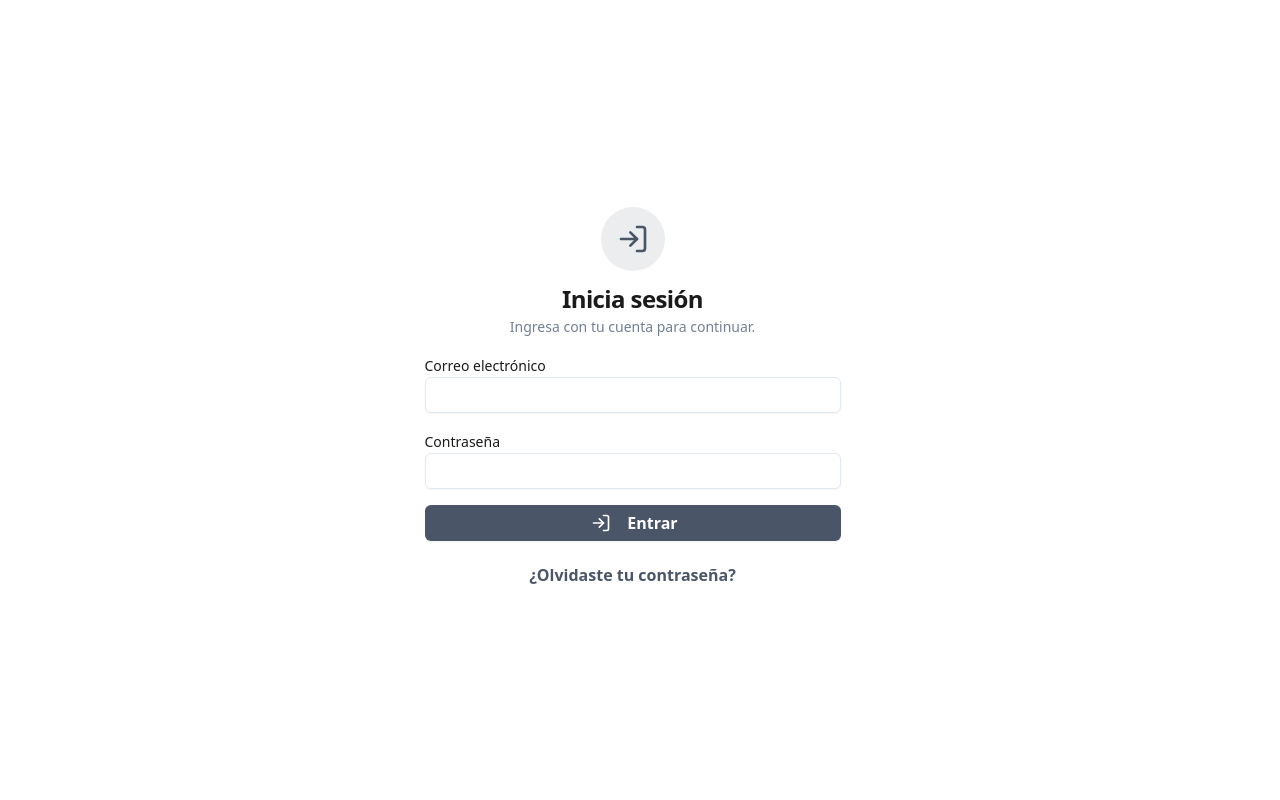
Scenario: login page password recovery entry › reaches the shared recovery flow and requests the link from there
The width and height of the screenshot is (1280, 800).
Click the button "¿Olvidaste tu contraseña?".
click(632, 575)  # box [517,557,748,593]
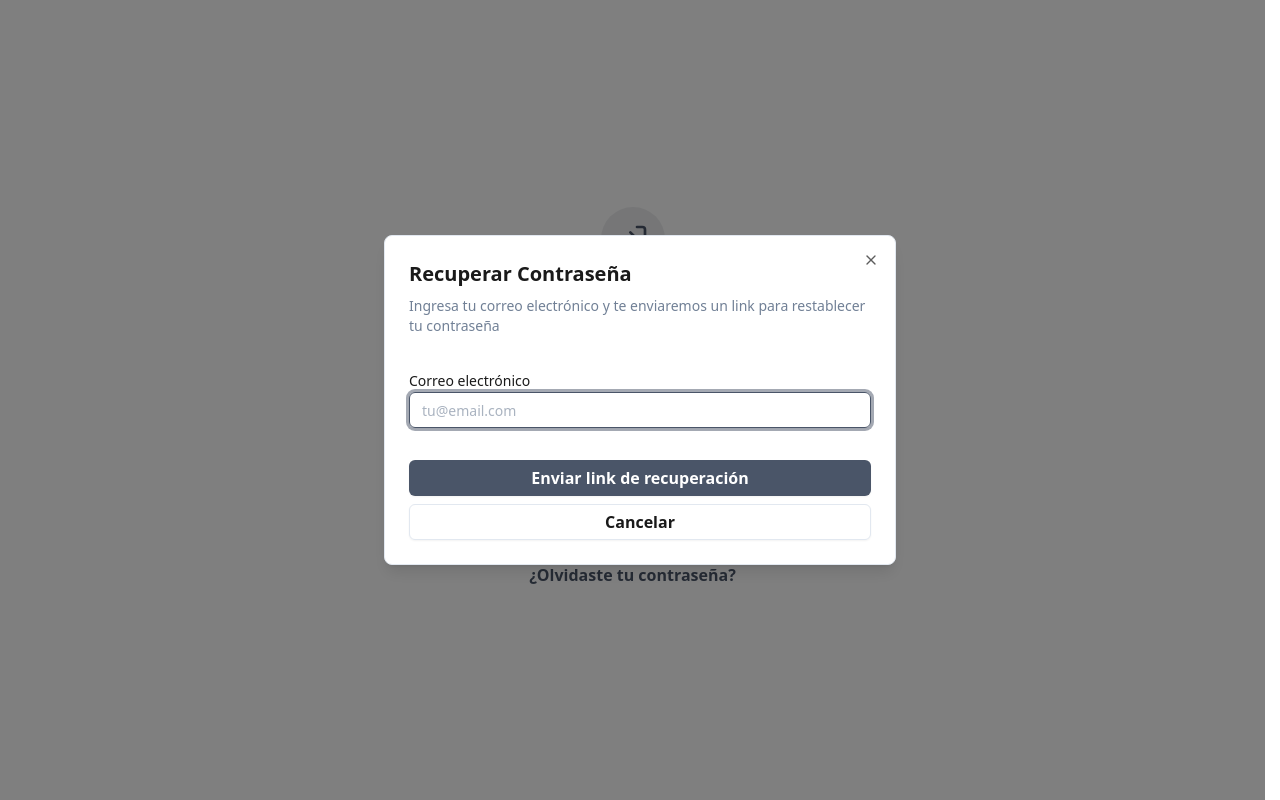
Expected: the heading "Recuperar Contraseña" is shown, [409,260,632,287]
Type "duena@tienda.test" into the field labelled "Correo electrónico".
click(640, 410); type("duena@tienda.test")  # box [409,392,871,428]
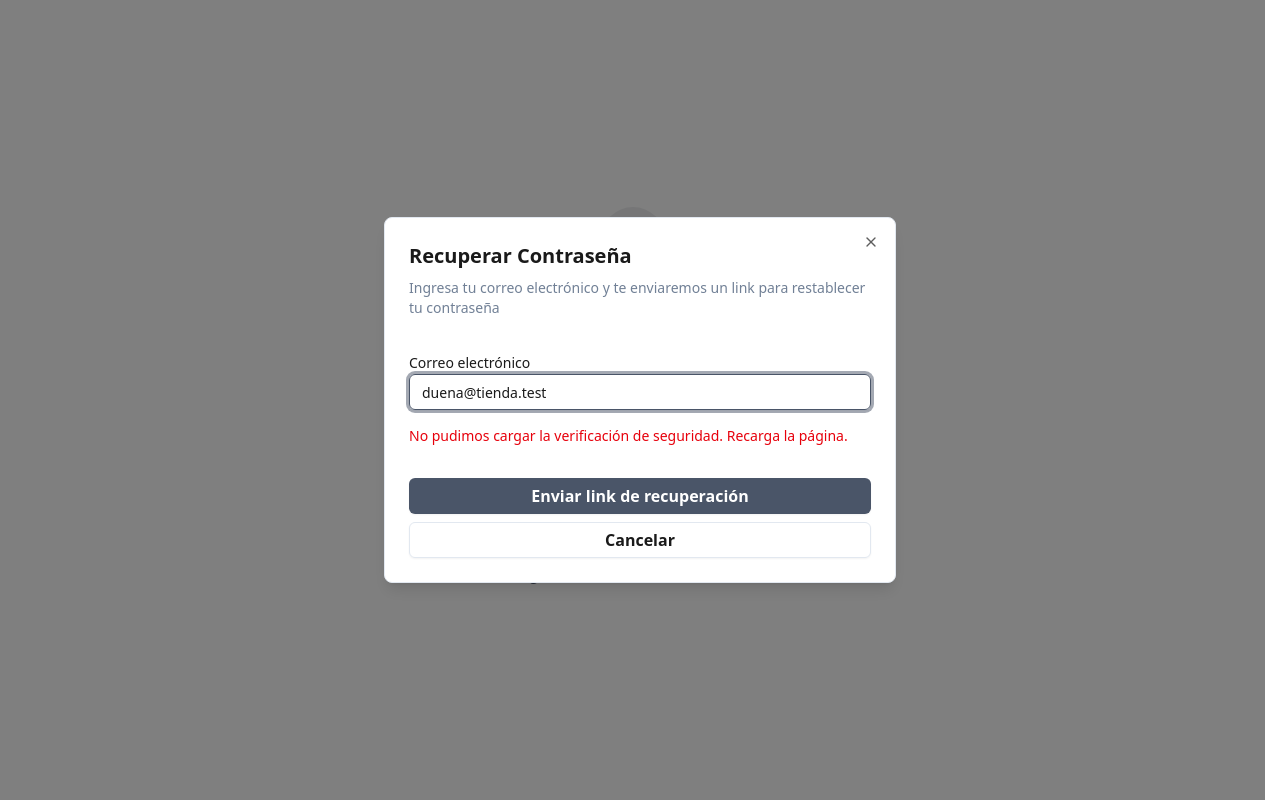
Click the button "Enviar link de recuperación".
click(640, 496)  # box [409,478,871,514]
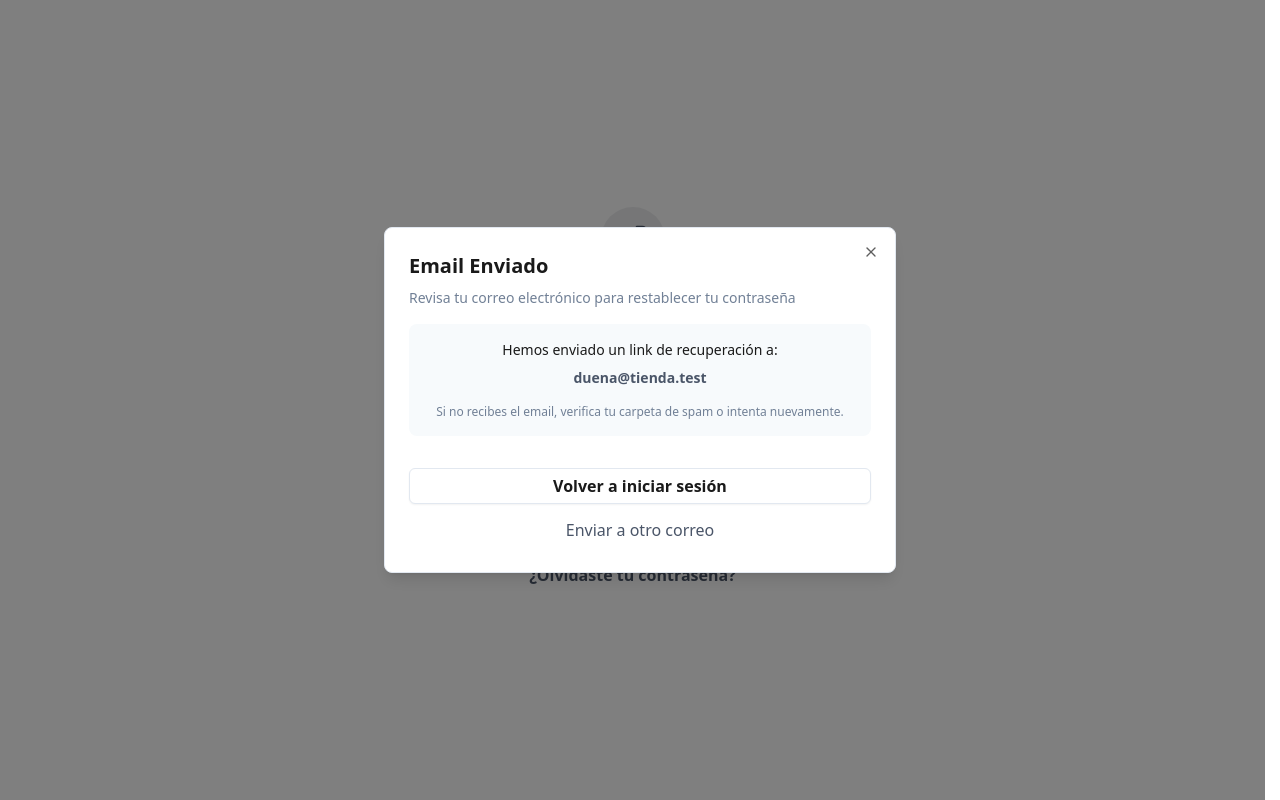
Expected: the heading "Email Enviado" is shown, [409,252,548,279]
